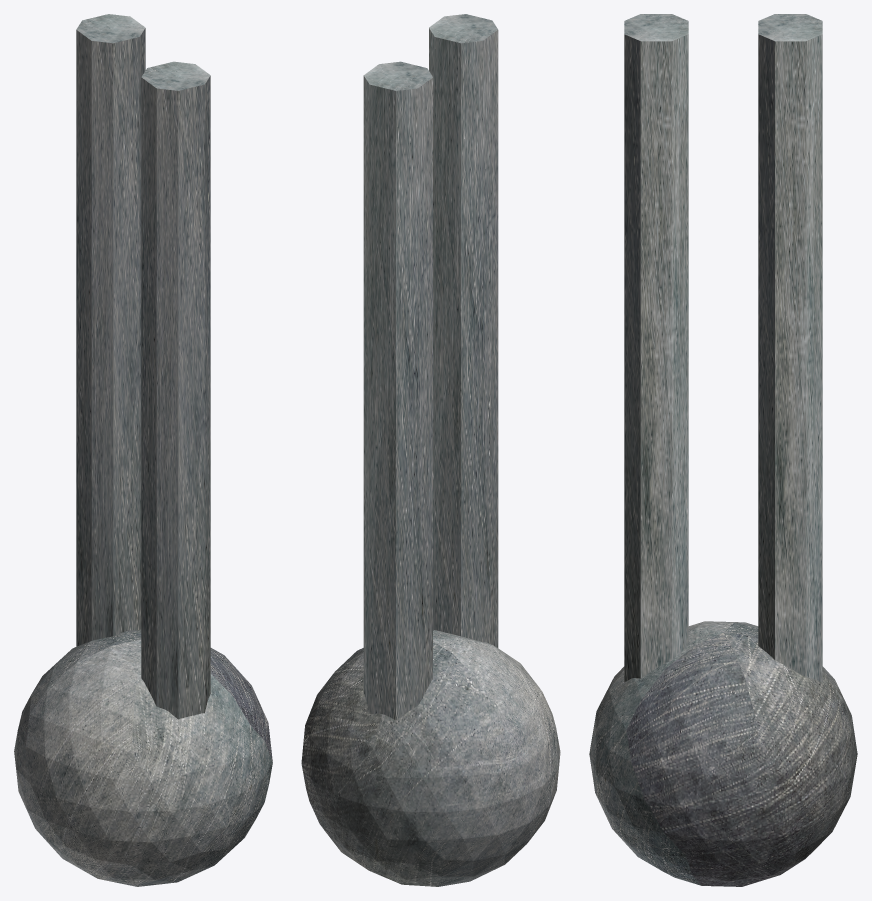
The model's file is RobotArm.fbx.
3 renders of one model, left to right at view 1: azimuth 30°, elevation 25°; view 2: azimuth 150°, elevation 25°; view 3: azimuth 270°, elevation 25°, orthographic. The views are drawn at different scales.
Parts seen in each view (by area): view 1: RobotArm; view 2: RobotArm; view 3: RobotArm.
Boxes of the visible parts, x1,y1,x2,y2 form: RobotArm: (14, 14, 272, 886); RobotArm: (301, 14, 560, 886); RobotArm: (589, 14, 857, 886).
Bounding box in the file's own units: 200 × 698 × 200.
1 material, 1 textured.
